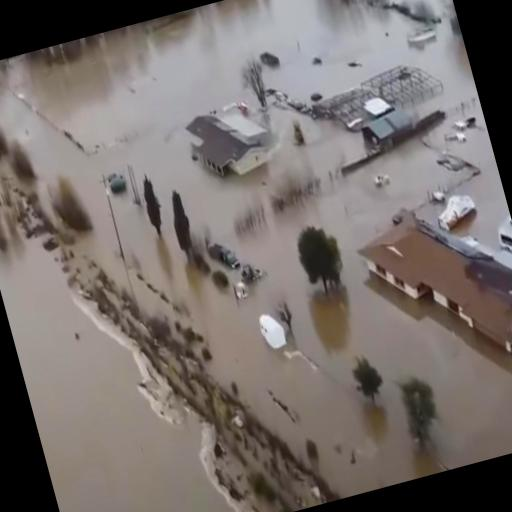flood: (0, 0, 512, 499), (0, 239, 234, 512)
house: (352, 187, 512, 385), (182, 92, 279, 188), (358, 104, 420, 154)
